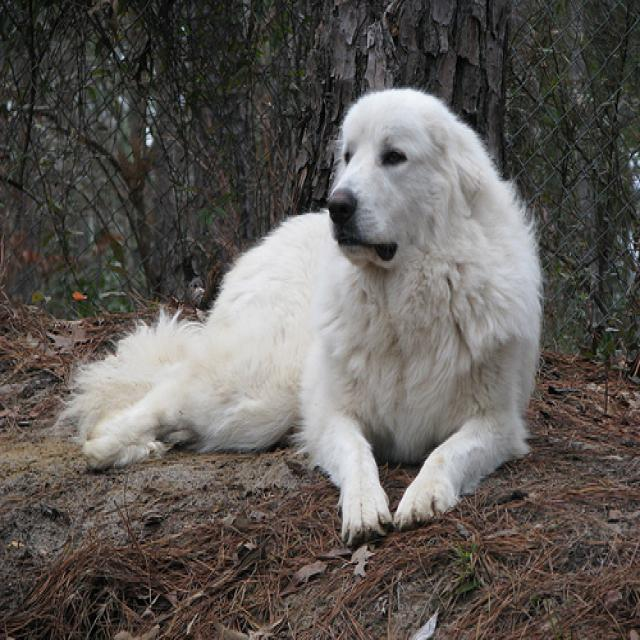dog-great_pyrenees: (51, 80, 552, 555)
